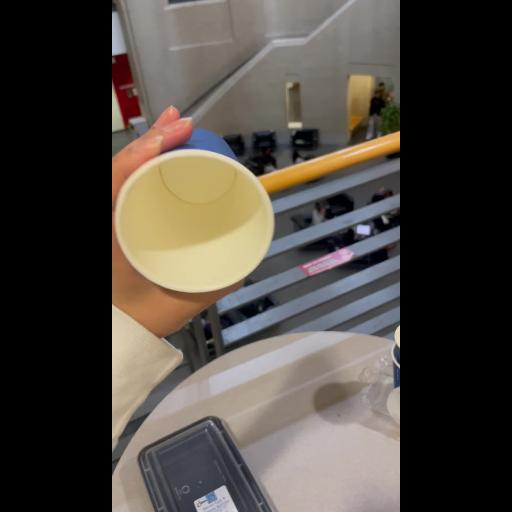lp_paper_cup: (112, 114, 286, 304)
